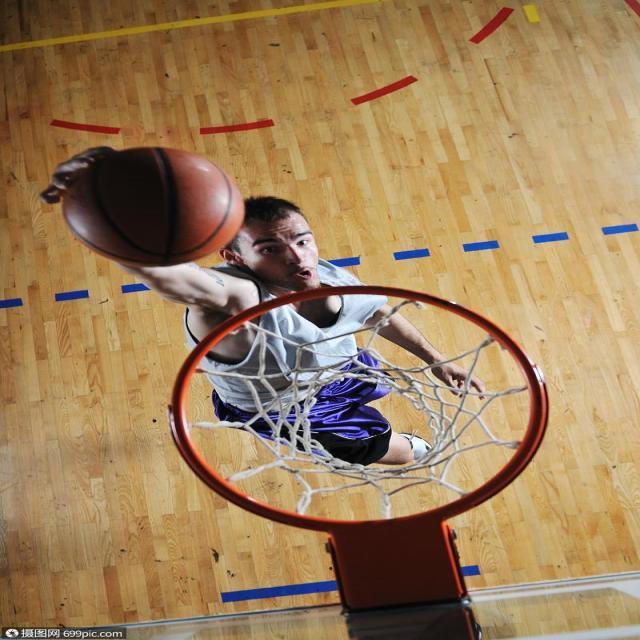rim: (64, 146, 246, 266)
